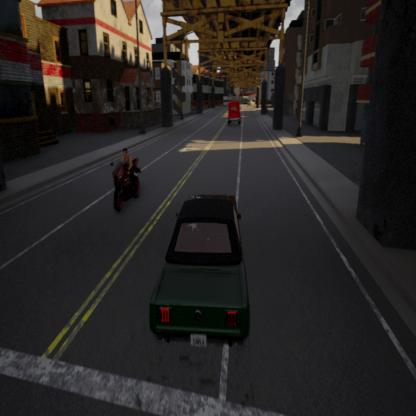Cars: (152, 192, 248, 350), (110, 144, 144, 212), (225, 98, 242, 124)
